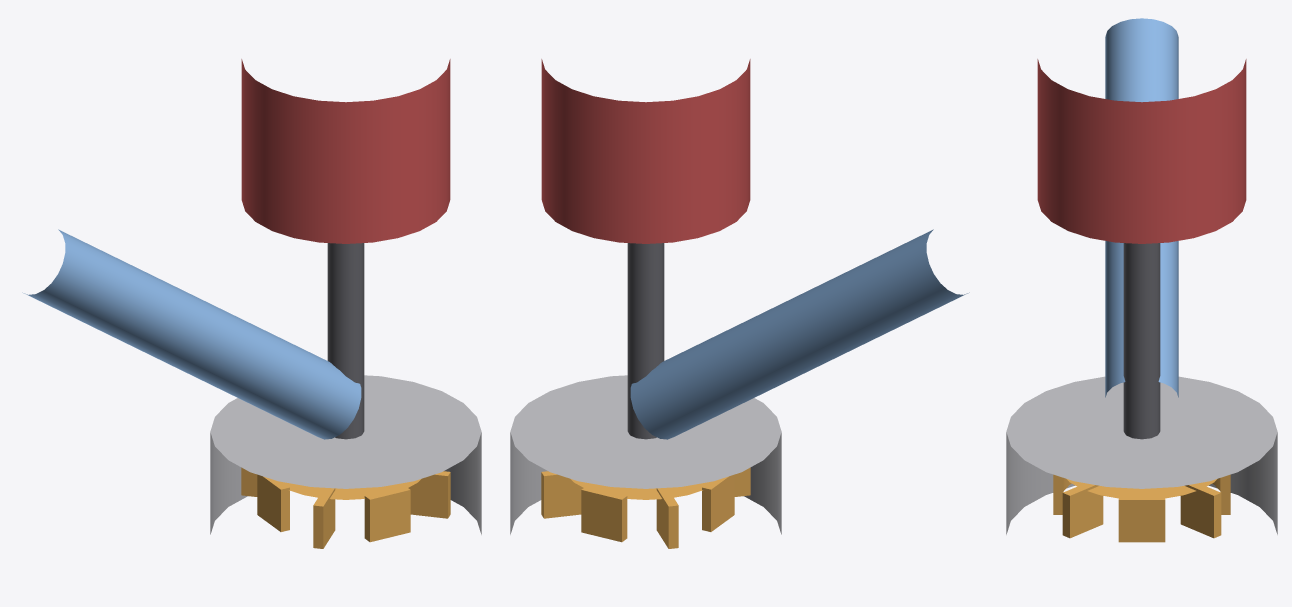
File: turbina.glb
The picture shows the model from 3 angles, left to right: view 1: azimuth 30°, elevation 25°; view 2: azimuth 150°, elevation 25°; view 3: azimuth 270°, elevation 25°; orthographic projection.
Visible parts, largest first — view 1: Generador, Tuberia_forzada, Carcasa_espiral, Eje, Alabe_2, Alabe_1, Alabe_4, Alabe_3, Rodete; view 2: Generador, Tuberia_forzada, Carcasa_espiral, Eje, Alabe_6, Alabe_7, Alabe_4, Alabe_5, Rodete; view 3: Generador, Carcasa_espiral, Tuberia_forzada, Eje, Alabe_0, Alabe_1, Alabe_7, Rodete, Alabe_2, Alabe_6.
Boxes of the visible parts, x1,y1,x2,y2 form: Generador: [241, 59, 450, 243]; Tuberia_forzada: [22, 229, 361, 439]; Carcasa_espiral: [210, 375, 481, 534]; Eje: [327, 243, 364, 439]; Alabe_2: [364, 486, 410, 542]; Alabe_1: [408, 471, 450, 518]; Alabe_4: [257, 474, 289, 531]; Alabe_3: [313, 487, 335, 548]; Rodete: [283, 479, 420, 499]; Generador: [541, 59, 750, 243]; Tuberia_forzada: [630, 229, 969, 439]; Carcasa_espiral: [510, 375, 781, 534]; Eje: [627, 243, 664, 439]; Alabe_6: [581, 486, 627, 542]; Alabe_7: [541, 471, 583, 518]; Alabe_4: [702, 474, 734, 531]; Alabe_5: [656, 487, 678, 548]; Rodete: [571, 479, 708, 499]; Generador: [1037, 59, 1246, 243]; Carcasa_espiral: [1006, 376, 1277, 534]; Tuberia_forzada: [1105, 18, 1178, 397]; Eje: [1123, 243, 1160, 439]; Alabe_0: [1118, 495, 1165, 542]; Alabe_1: [1062, 483, 1103, 538]; Alabe_7: [1180, 483, 1221, 538]; Rodete: [1063, 478, 1220, 498]; Alabe_2: [1053, 474, 1063, 514]; Alabe_6: [1220, 474, 1230, 514].
Size of the model in its own units: 0.9778 by 1.01 by 0.52.
